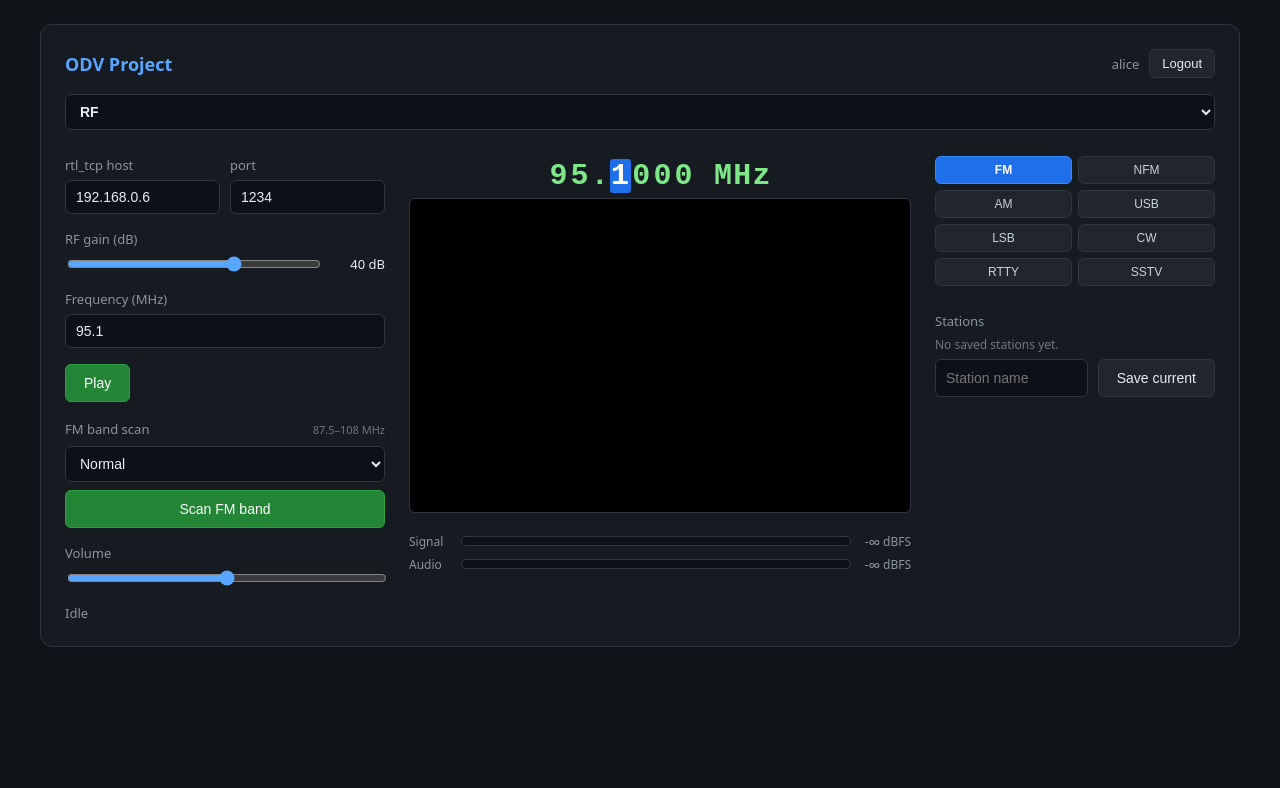
Test case: App › uses the real-time spectrum scope in NFM mode instead of the waterfall
Expected: the text "Stations" is shown, x1=935 y1=312 x2=984 y2=330
Click the button "NFM": (1146, 170) x1=1078 y1=156 x2=1215 y2=184
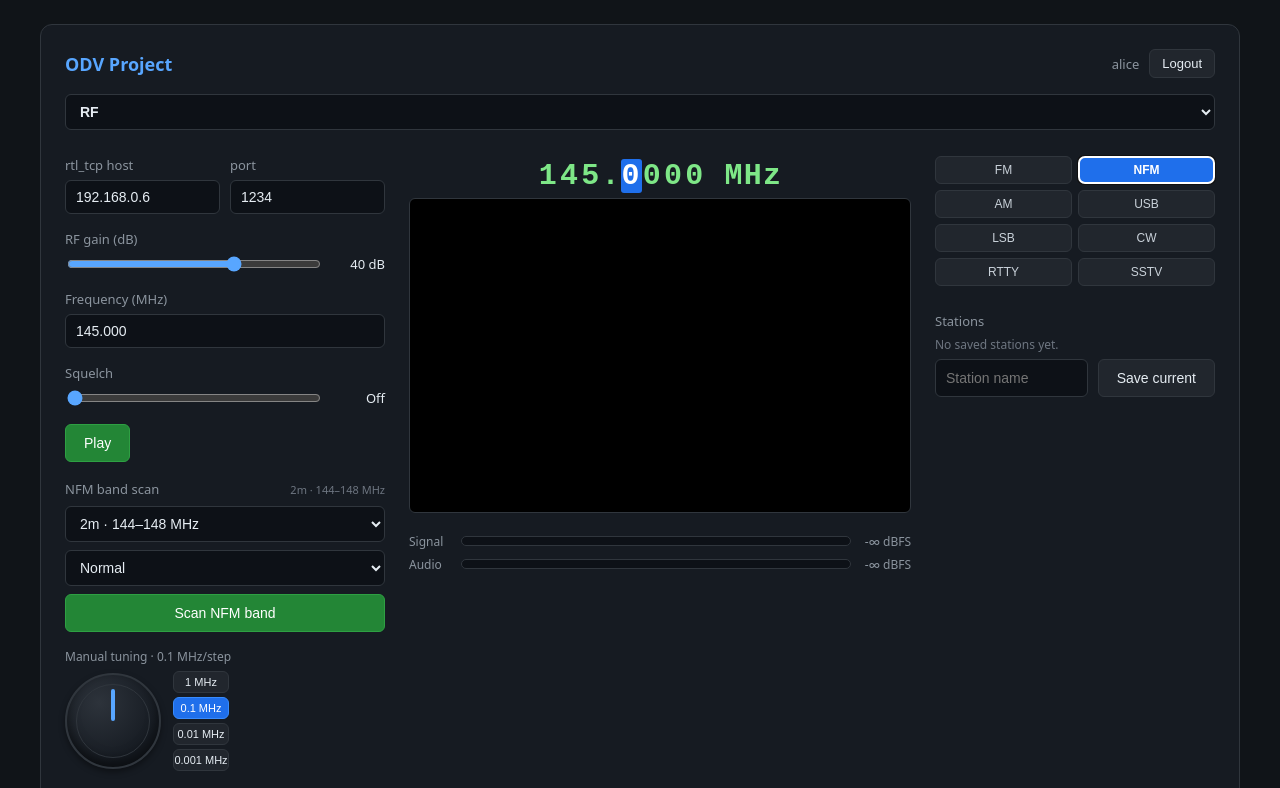
Expected: the drawing is shown, x1=409 y1=198 x2=911 y2=512
Now the text "NFM band scan" is shown, box x1=65 y1=480 x2=159 y2=498
